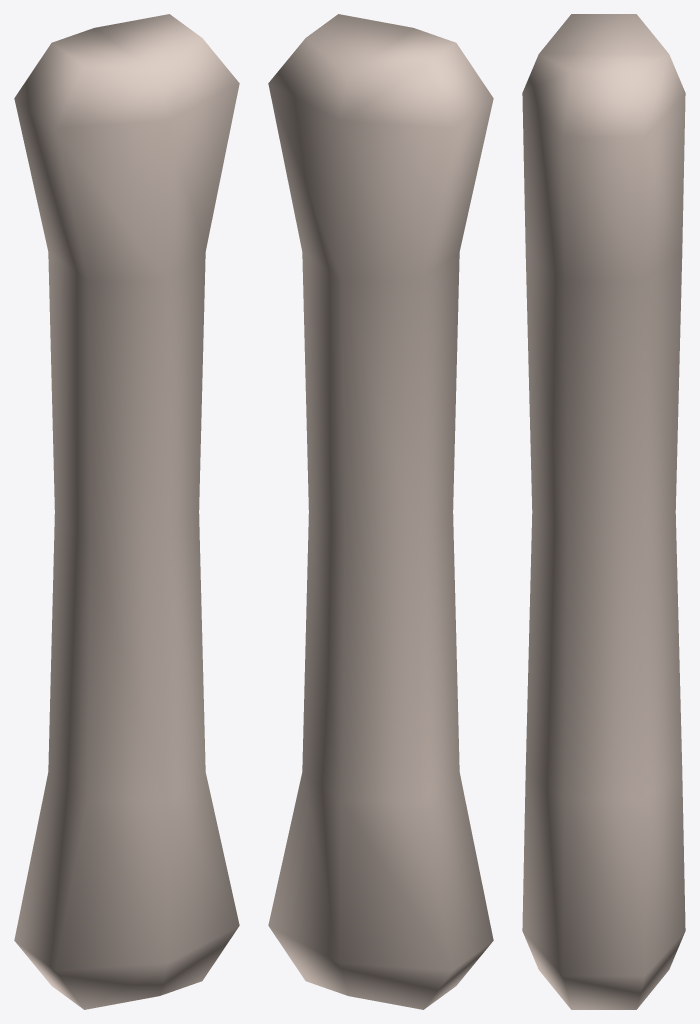
The model's file is Bone.fbx.
3 renders of one model, left to right at view 1: azimuth 30°, elevation 25°; view 2: azimuth 150°, elevation 25°; view 3: azimuth 270°, elevation 25°, orthographic.
Visible parts, largest first — view 1: Bone - Haskipend; view 2: Bone - Haskipend; view 3: Bone - Haskipend.
Part boxes in pixels (x1=…): Bone - Haskipend: x1=14, y1=14, x2=239, y2=1009; Bone - Haskipend: x1=268, y1=14, x2=493, y2=1009; Bone - Haskipend: x1=522, y1=14, x2=685, y2=1009.
Size of the model in its own units: 15.34 by 75 by 11.81.
